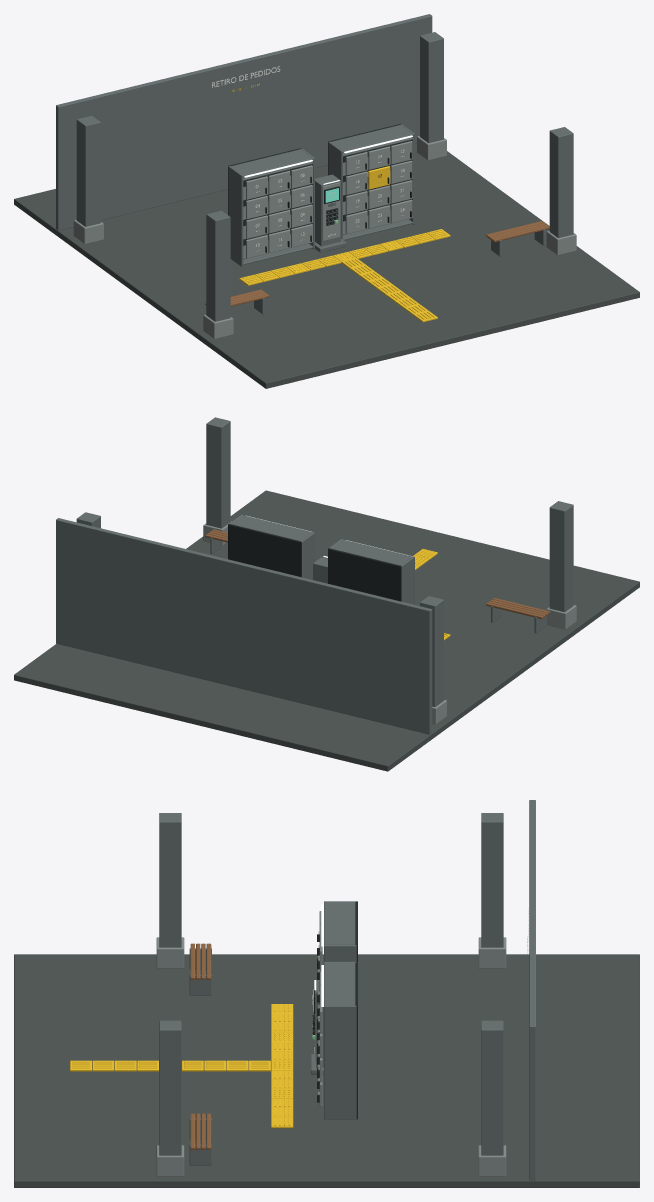
Rendered from centro-accesible.glb.
3 views of the same model, one above another, from view 1: azimuth 30°, elevation 25°; view 2: azimuth 150°, elevation 25°; view 3: azimuth 270°, elevation 25° (orthographic). The views are drawn at different scales.
Visible parts, largest first — view 1: Suelo, Pared fondo, Pilar, Pilar.001, Pilar.002, Pilar.003, Lateral carcasa, Estante.013, Estante.006, Cuerpo totem, Panel frontal, Lateral carcasa.002 (+4 smaller); view 2: Pared fondo, Suelo, Fondo interior.001, Fondo interior, Pilar, Pilar.002, Pilar.001, Estante.006, Estante.013, Lateral carcasa, Zocalo pilar, Lateral carcasa.002; view 3: Suelo, Lateral carcasa.003, Pilar.002, Pilar.003, Pilar, Pilar.001, Pared fondo, Estante.006, Estante.013, Zocalo pilar, Zocalo pilar.002, Zocalo pilar.003 (+2 smaller).
Boxes of the visible parts, x1,y1,x2,y2 form: Suelo: (14,143,639,388); Pared fondo: (56,14,432,230); Pilar: (206,210,230,321); Pilar.001: (76,116,100,226); Pilar.002: (549,127,573,237); Pilar.003: (420,32,443,143); Lateral carcasa: (228,166,243,266); Estante.013: (331,125,414,152); Estante.006: (231,149,313,176); Cuerpo totem: (315,174,340,246); Panel frontal: (322,182,340,241); Lateral carcasa.002: (328,141,342,239); Pared fondo: (56,518,432,734); Suelo: (14,490,639,771); Fondo interior.001: (228,524,301,577); Fondo interior: (328,548,401,601); Pilar: (549,501,573,612); Pilar.002: (206,417,230,528); Pilar.001: (420,596,443,706); Estante.006: (331,539,412,565); Estante.013: (231,515,312,540); Lateral carcasa: (401,556,414,604); Zocalo pilar: (546,605,576,629); Lateral carcasa.002: (300,532,314,579); Suelo: (14,954,639,1187); Lateral carcasa.003: (324,1005,356,1119); Pilar.002: (159,1020,181,1155); Pilar.003: (481,1020,503,1155); Pilar: (159,813,181,947); Pilar.001: (481,813,503,947); Pared fondo: (529,800,535,1180); Estante.006: (324,902,355,944); Estante.013: (324,963,355,1005); Zocalo pilar: (156,937,184,968); Zocalo pilar.002: (156,1145,184,1176); Zocalo pilar.003: (478,1145,506,1176).
Size of the model in its own units: 12 by 3.99 by 14.
